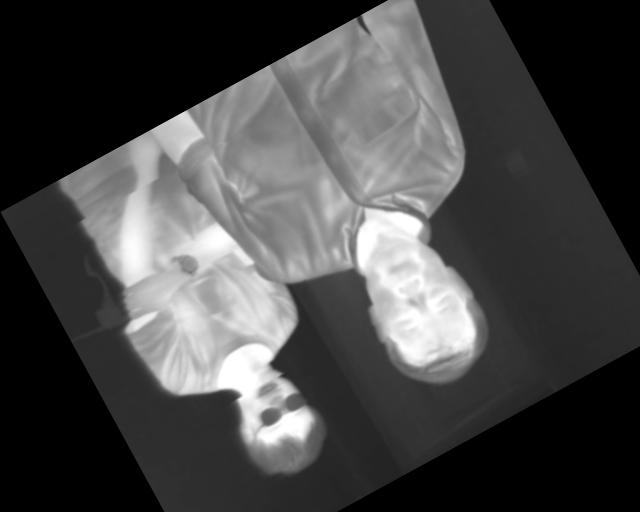face: (336, 213, 507, 405), (214, 352, 338, 489)
